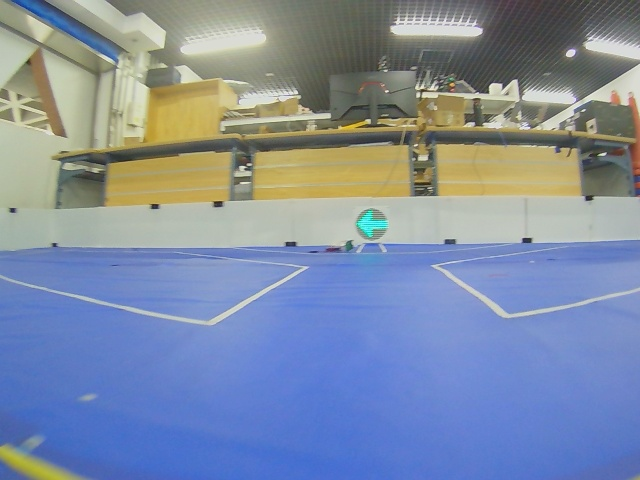left_green: (356, 208, 389, 240)
